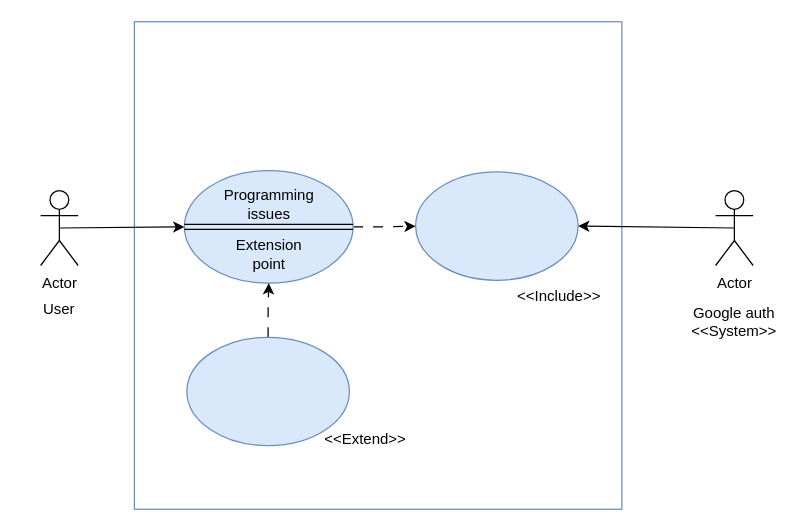
Image size: 798x531. Some labels were removed from this diagram. The shapes that lost their labels are listed below. From the top down, each one's box as (x1, y1, x2, y2) in pixels, then its label:
(414, 171, 578, 280): Authentication
(186, 336, 349, 446): Programming goals
